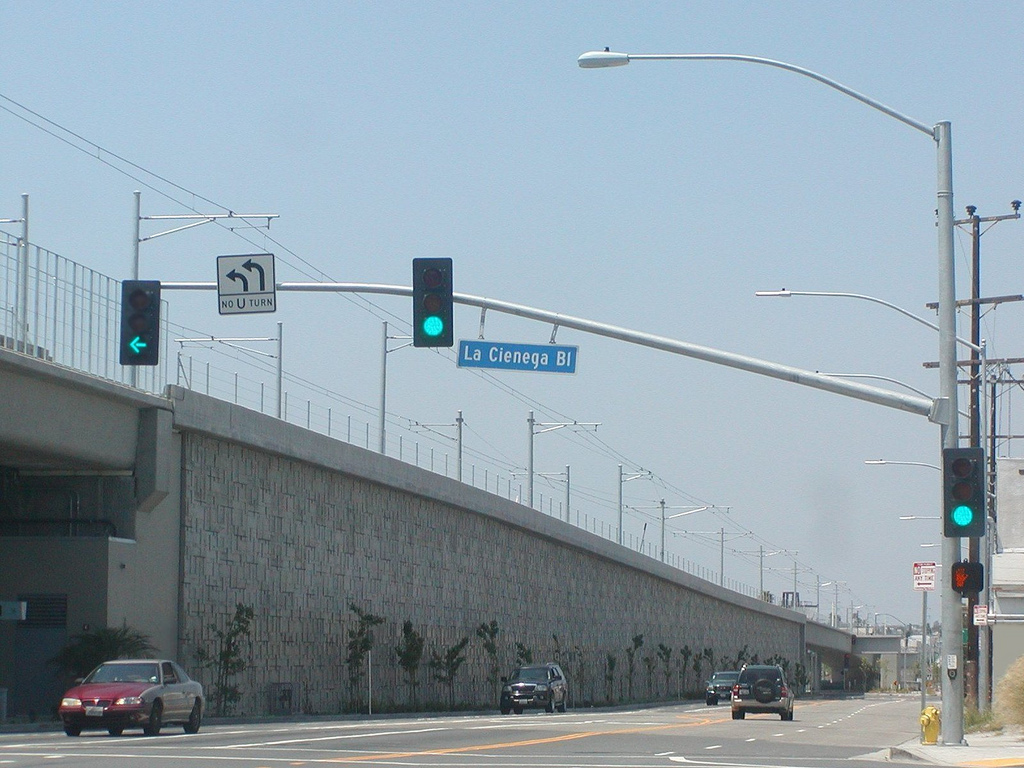traffic_light: (941, 446, 988, 539), (410, 256, 455, 349), (117, 278, 162, 367)
